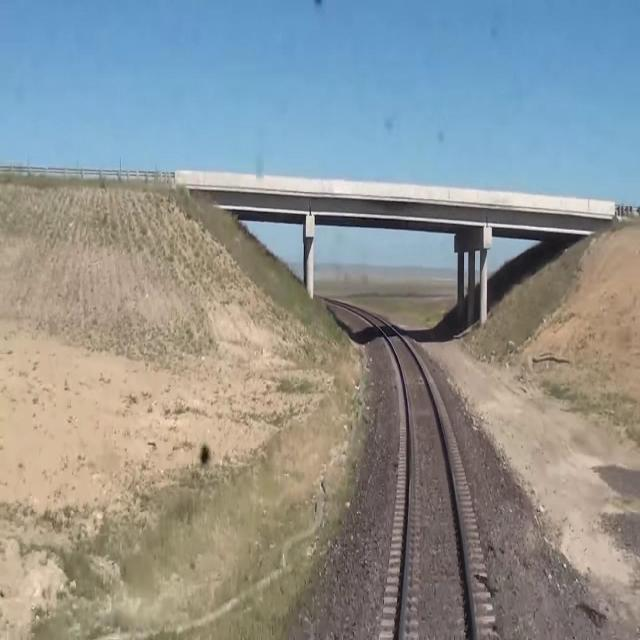rail-track: (360, 312, 473, 639)
